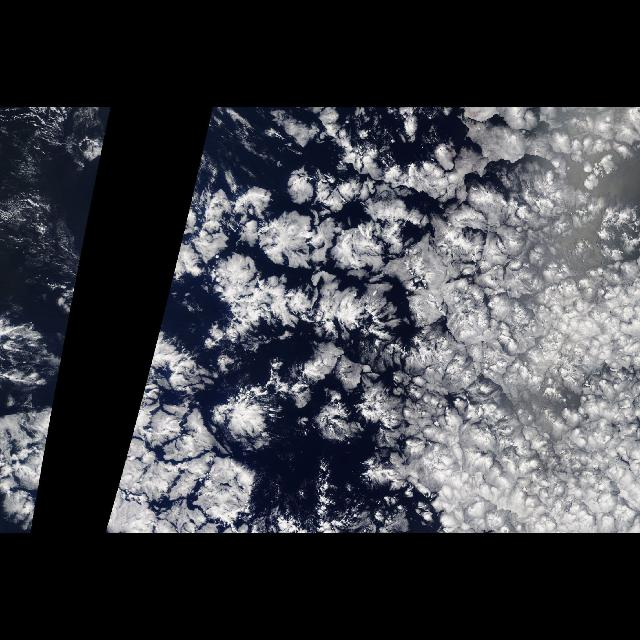Flower: (160, 118, 434, 456)
Sugar: (0, 154, 100, 290)
